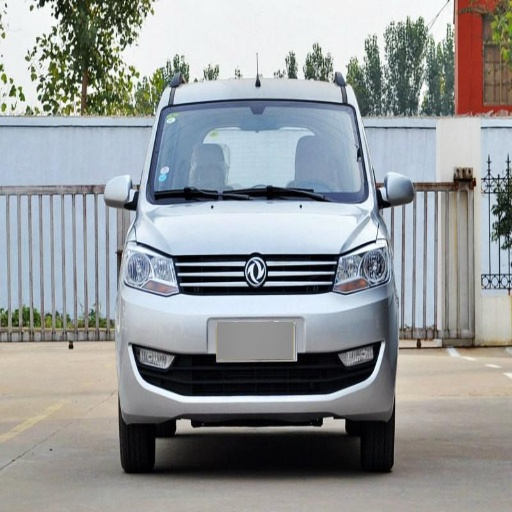front_bumper: (120, 254, 394, 419)
front_right_light: (123, 243, 181, 294)
hood: (137, 203, 378, 256)
left_mirror: (380, 173, 416, 208)
